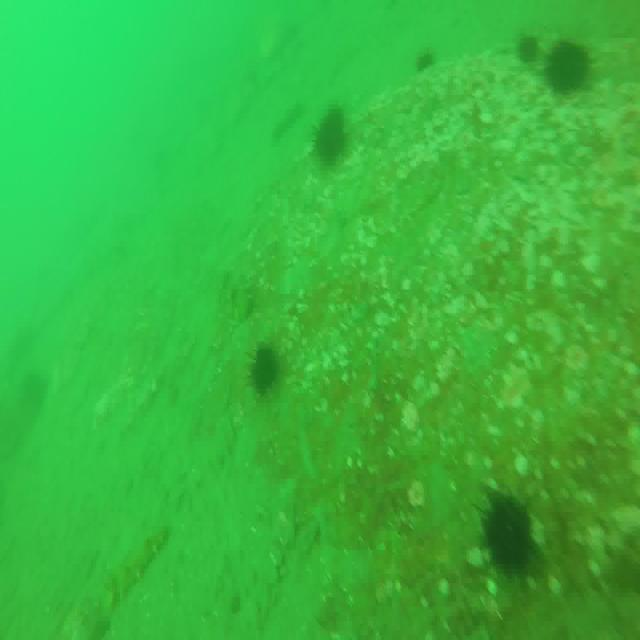echinus: (485, 490, 535, 578), (546, 41, 592, 104), (313, 110, 349, 165), (250, 348, 282, 394), (517, 32, 540, 68), (413, 46, 436, 74)
holothurian: (104, 518, 172, 609)
